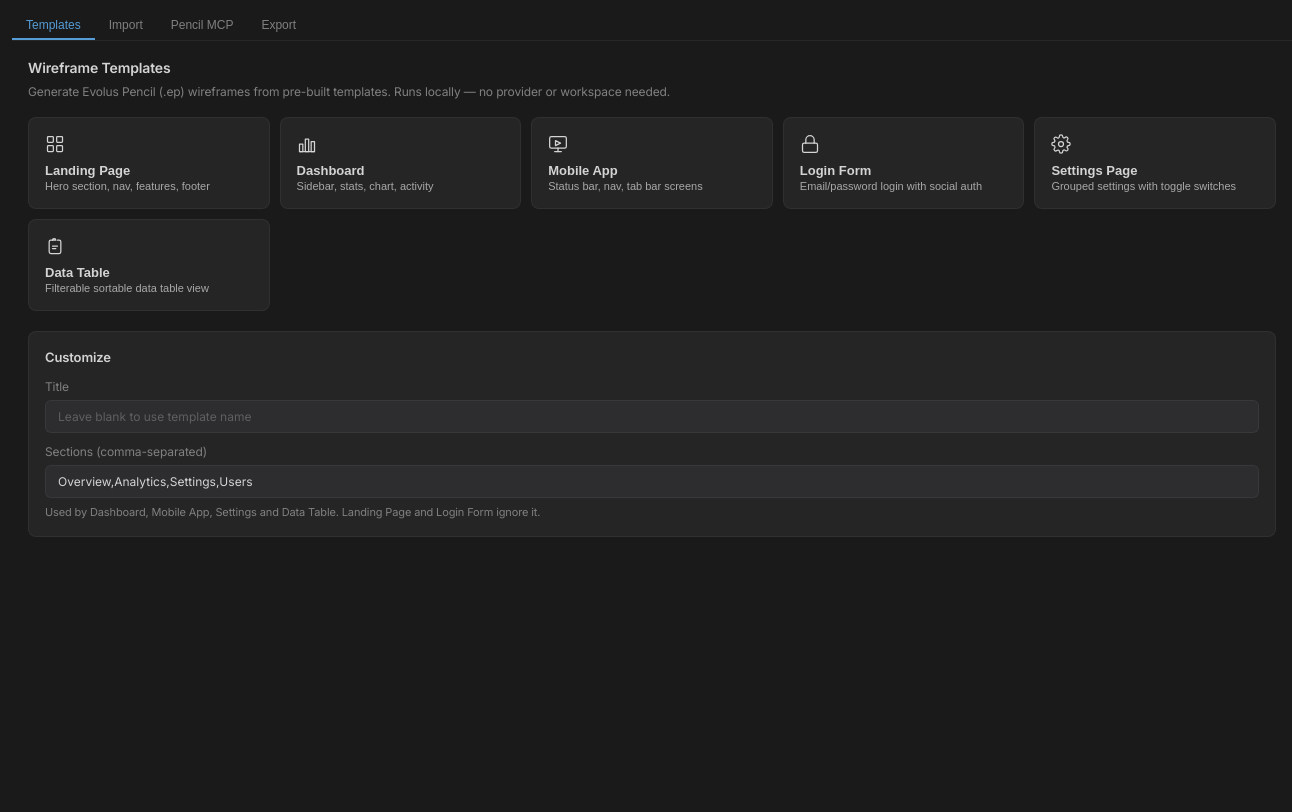
it: PencilPanel - Export › downloads nothing and reports the reason when the export fails
Click the button with aria-label "Generate Login Form wireframe".
click(904, 163)  # box left=783, top=117, right=1024, bottom=209
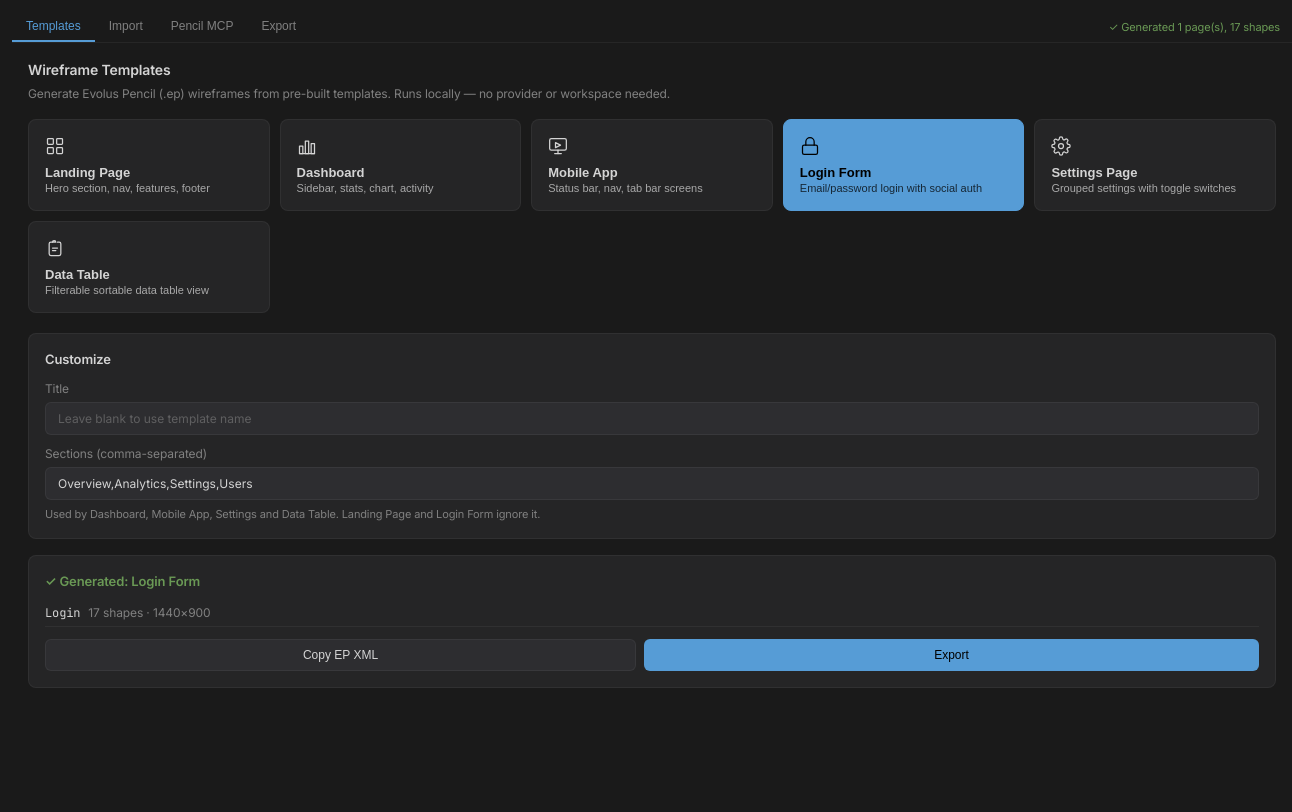
Click the tab "Export".
click(279, 27)  # box left=247, top=12, right=310, bottom=42
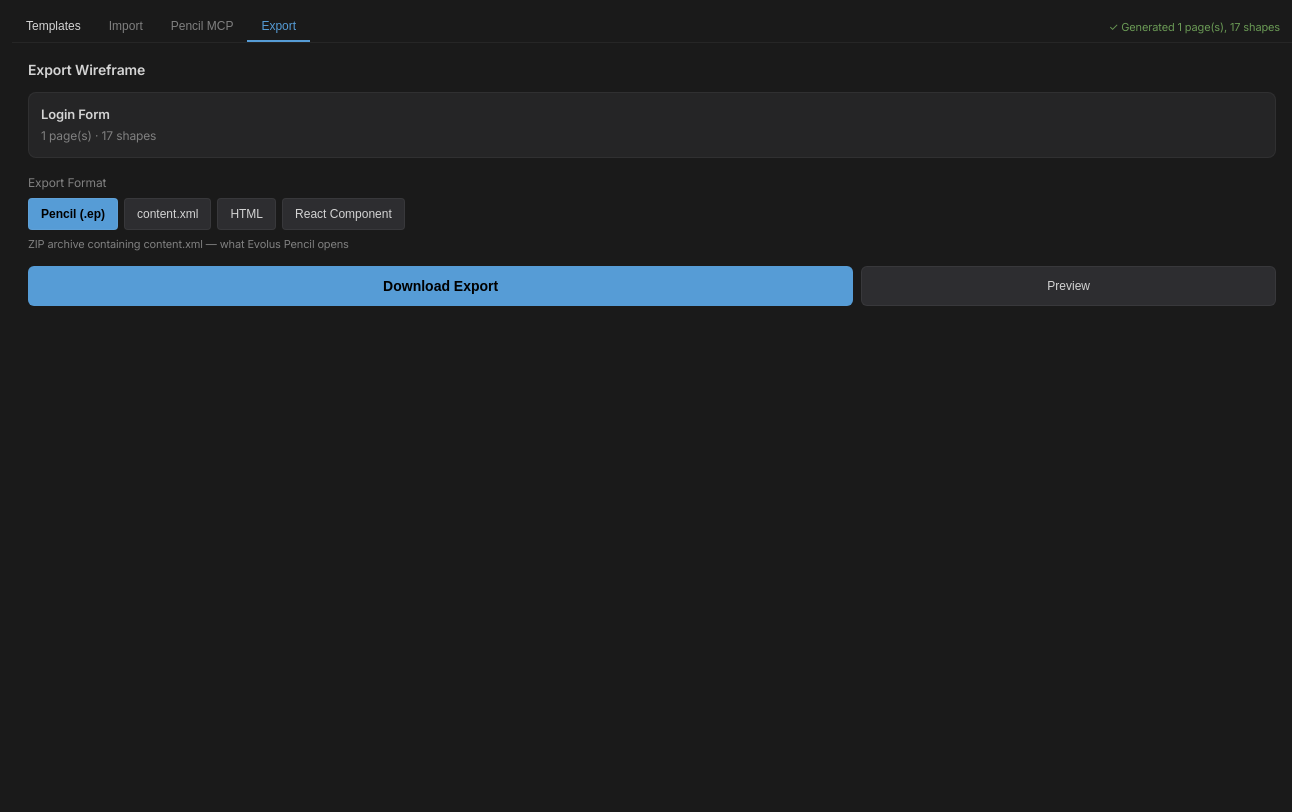
Click the radio button labelled "React Component".
click(343, 214)  # box left=282, top=198, right=405, bottom=230
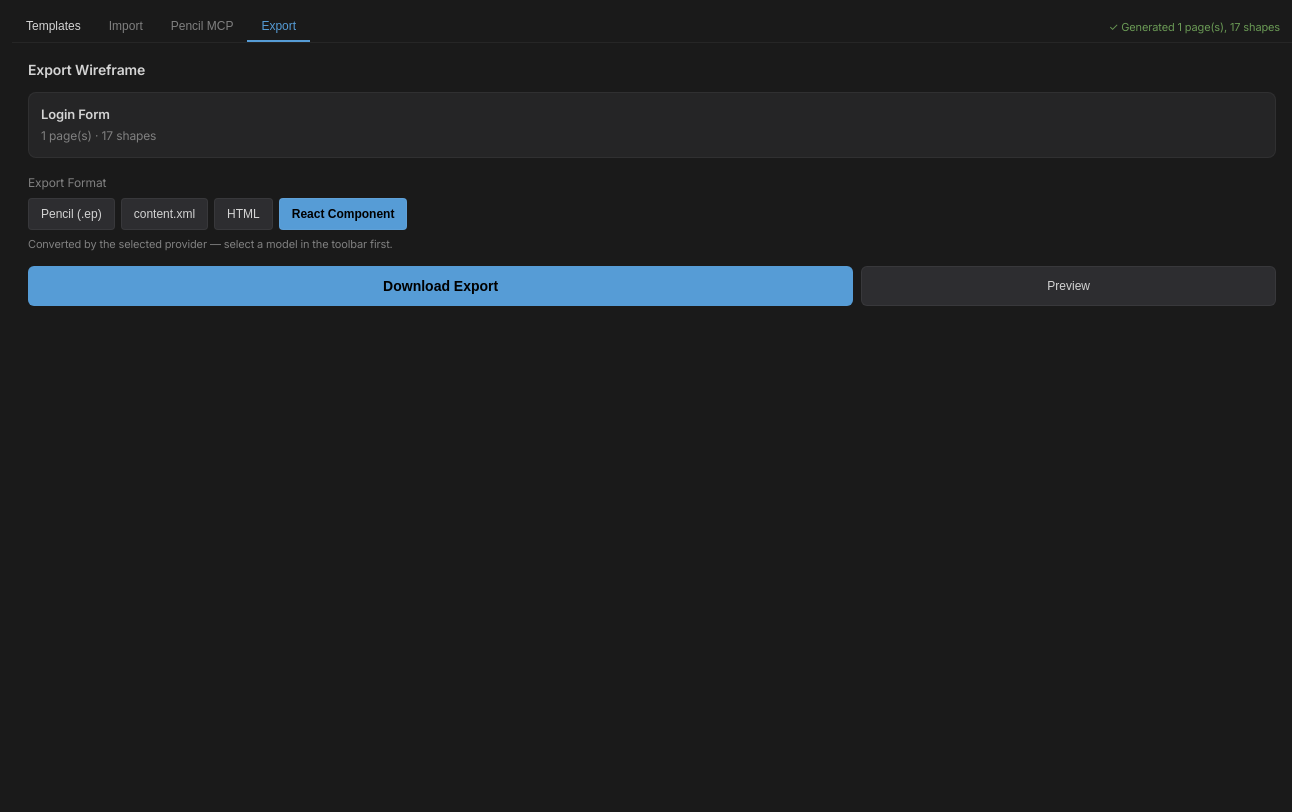
Click the button "Download Export".
click(441, 286)  # box left=28, top=266, right=853, bottom=306
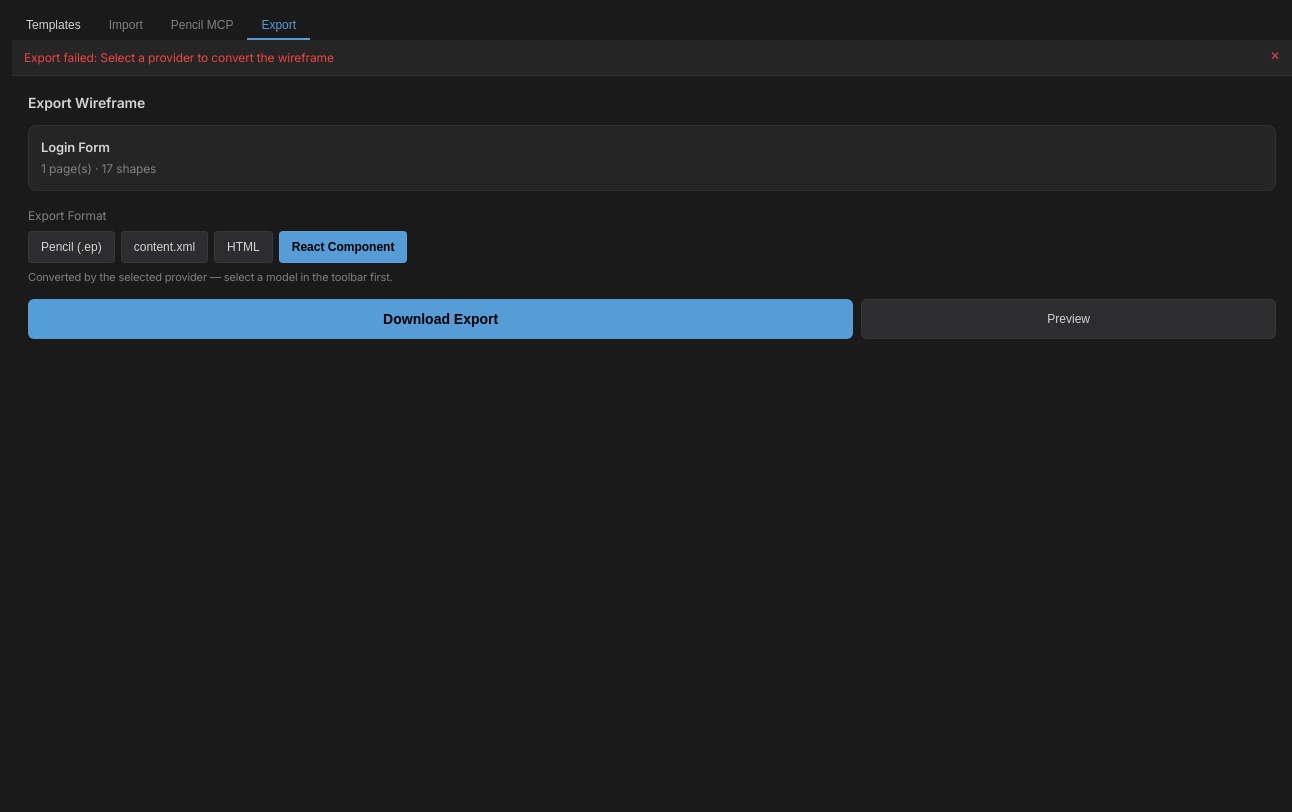
expect the message shows "Select a provider": met, box left=24, top=50, right=334, bottom=65
